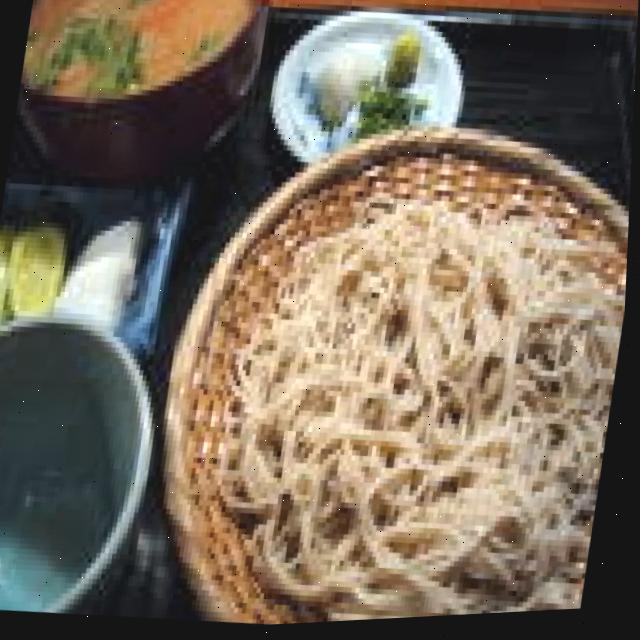面条主食: (119, 80, 636, 634)
